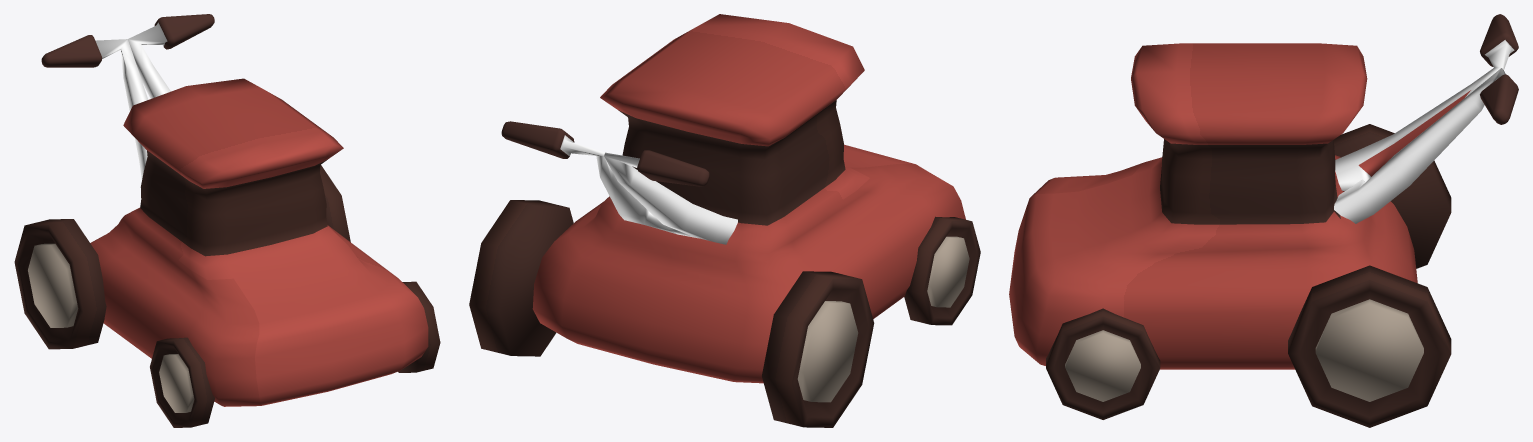
Rendered from lawn_mower.glb.
3 views of the same model, side by side, from view 1: azimuth 30°, elevation 25°; view 2: azimuth 150°, elevation 25°; view 3: azimuth 270°, elevation 25° (orthographic). The views are drawn at different scales.
Parts seen in each view (by area): view 1: Lawn_Mower; view 2: Lawn_Mower; view 3: Lawn_Mower.
Part boxes in pixels (left/top/right/bottom): Lawn_Mower: left=14, top=14, right=440, bottom=427; Lawn_Mower: left=469, top=14, right=980, bottom=427; Lawn_Mower: left=1009, top=14, right=1518, bottom=427.
Size of the model in its own units: 1.48 by 1.31 by 2.04.
1 material, 1 textured.
